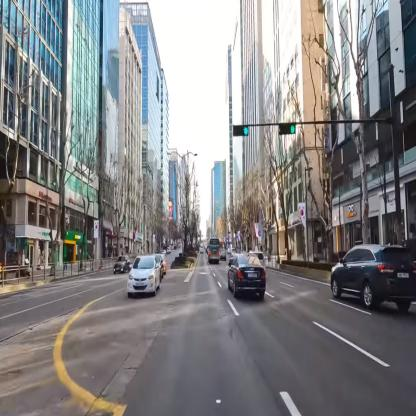Green: (232, 123, 249, 137), (279, 124, 296, 134)
